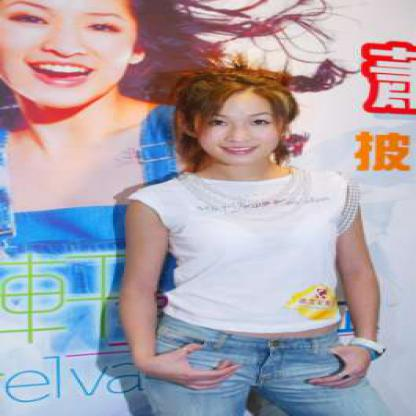face: (1, 1, 139, 111), (195, 80, 287, 166)
